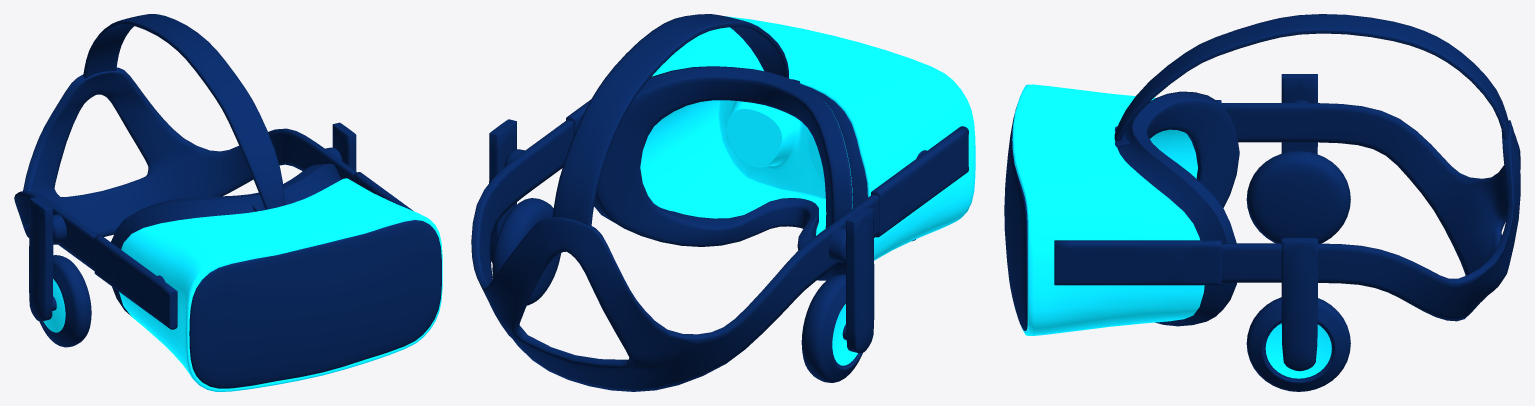
Rendered from Oculus.fbx.
3 views of the same model, side by side, from view 1: azimuth 30°, elevation 25°; view 2: azimuth 150°, elevation 25°; view 3: azimuth 270°, elevation 25° (orthographic). The views are drawn at different scales.
Visible parts, largest first — view 1: oculus; view 2: oculus; view 3: oculus.
Part boxes in pixels (x1=…): oculus: x1=14, y1=14, x2=442, y2=391; oculus: x1=471, y1=14, x2=975, y2=391; oculus: x1=1004, y1=14, x2=1520, y2=391.
Size of the model in its own units: 292 by 233 by 367.
